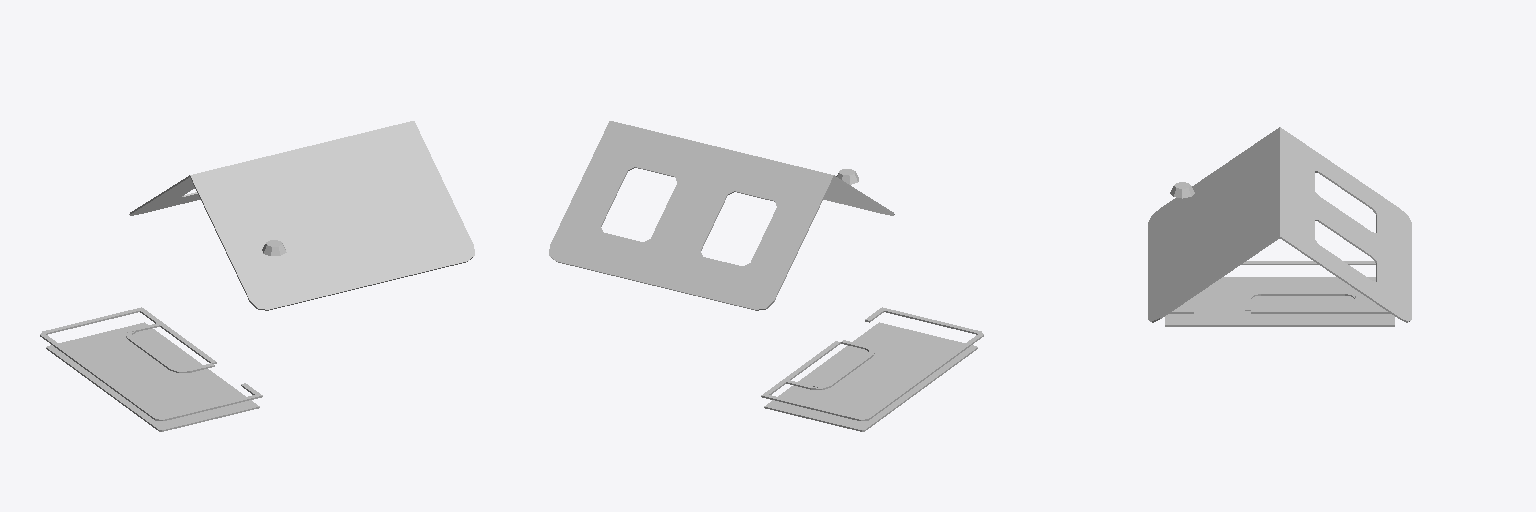
File: building-type-o_roof.obj
3 renders of one model, left to right at view 1: azimuth 30°, elevation 25°; view 2: azimuth 150°, elevation 25°; view 3: azimuth 270°, elevation 25°, orthographic.
Parts seen in each view (by area): view 1: building-type-o.001; view 2: building-type-o.001; view 3: building-type-o.001.
Part boxes in pixels (left/top/right/bottom): building-type-o.001: left=40, top=121, right=474, bottom=431; building-type-o.001: left=549, top=121, right=983, bottom=431; building-type-o.001: left=1148, top=127, right=1411, bottom=326.
Bounding box in the file's own units: 1.27 × 0.7435 × 0.916.